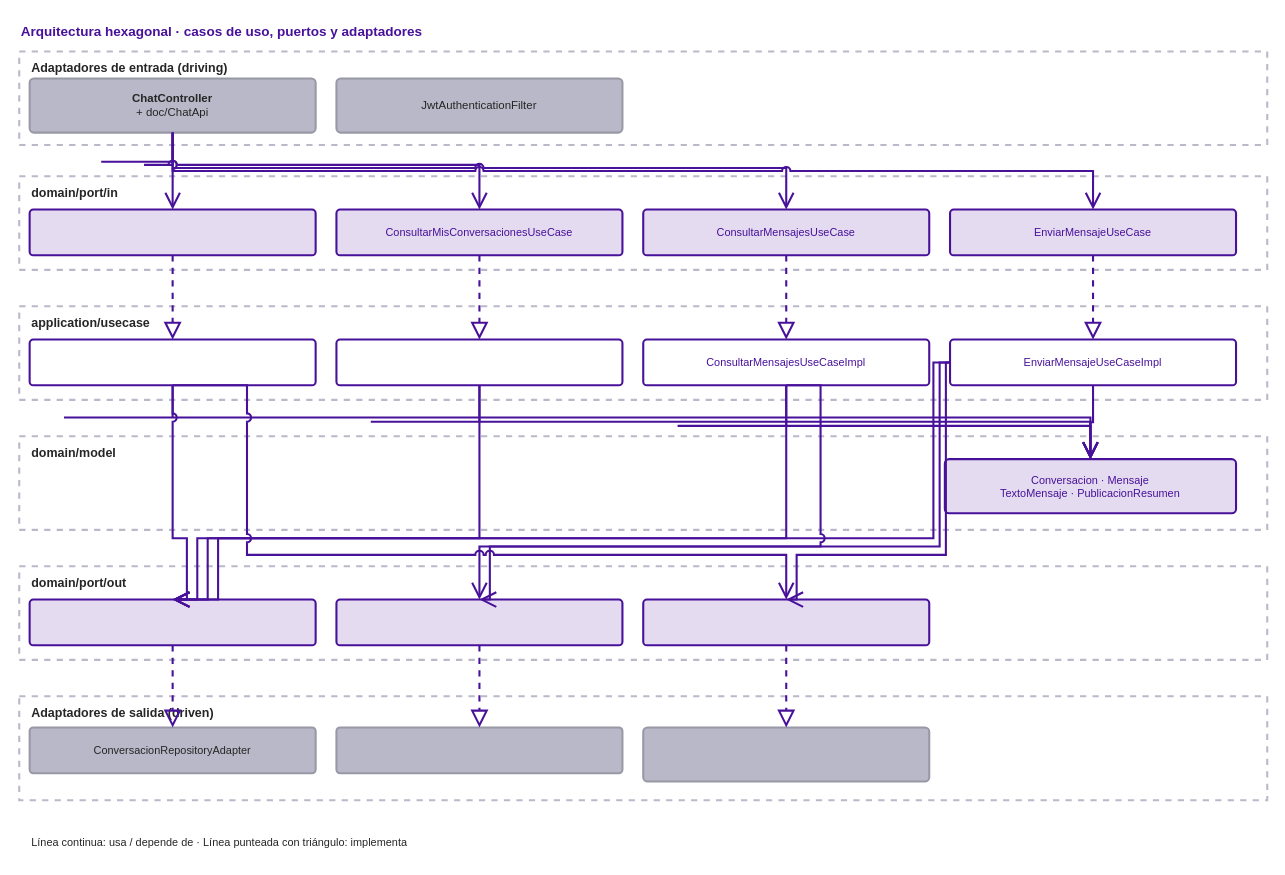
The diagram is 1285 pixels wide and 875 high, and some of its shapes have lost their labels. Here are the shapes that lost their labels. From the top down, the centre of each, then its label:
the point at 172,232: IniciarConversacionUseCase
the point at 172,362: IniciarConversacionUseCaseImpl
the point at 479,362: ConsultarMisConversacionesUseCaseImpl
the point at 172,622: ConversacionRepositoryPort
the point at 479,622: MensajeRepositoryPort
the point at 786,622: PublicacionConsultaPort
the point at 479,750: MensajeRepositoryAdapter
the point at 786,754: PublicacionConsultaAdapter (SegundaManoFeignClient)
